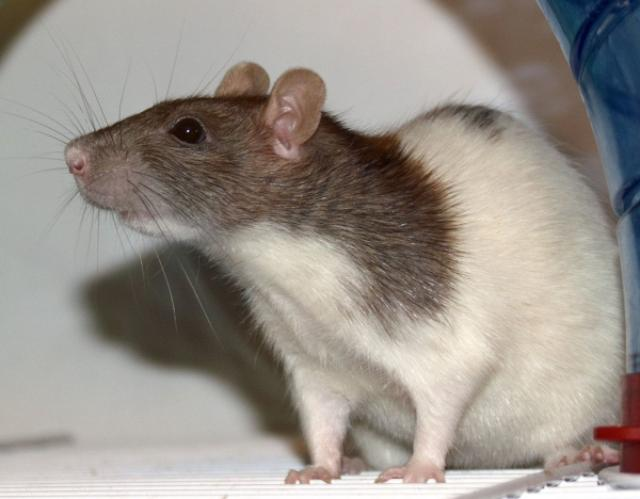rat: (31, 41, 552, 491)
